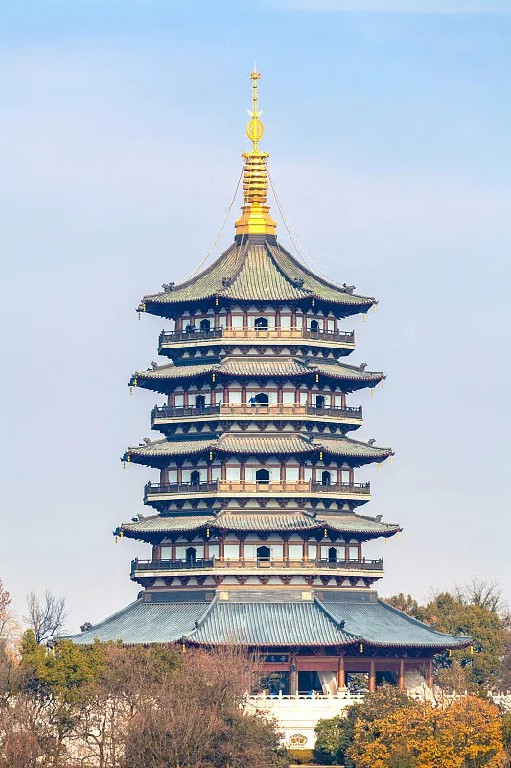Leifeng: (42, 58, 472, 693)
